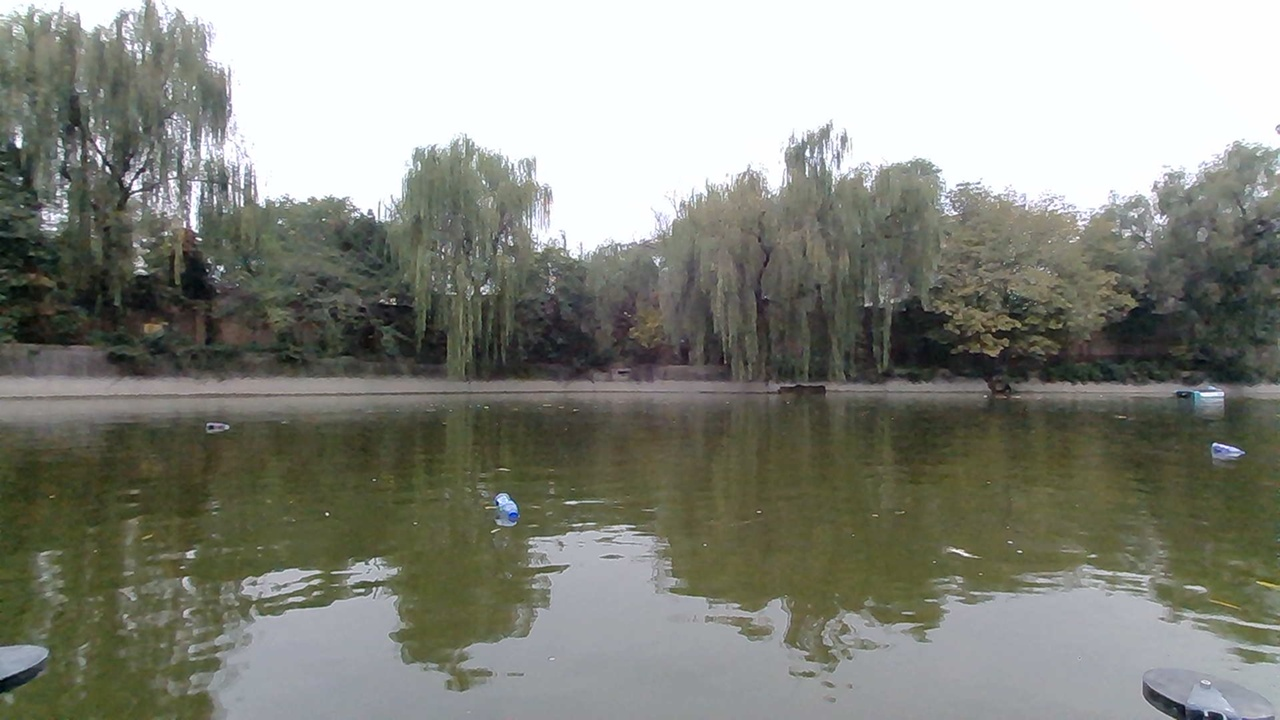bottle: (482, 492, 532, 529), (1204, 438, 1249, 472), (205, 406, 237, 440)
